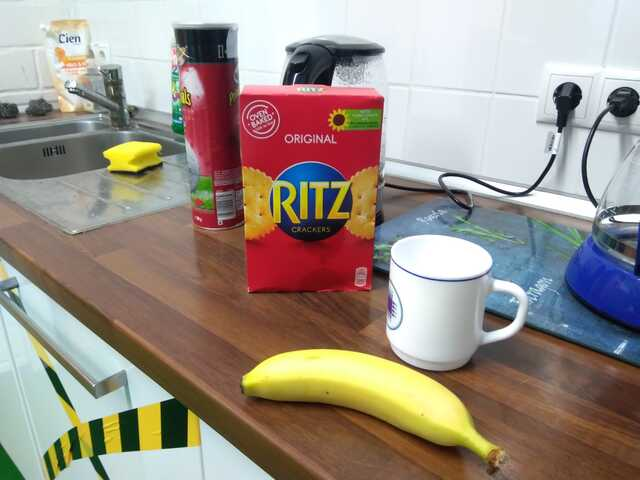001_chips_can: (170, 22, 246, 232)
003_cracker_box: (239, 84, 384, 296)
011_banana: (241, 347, 506, 467)
025_mug: (386, 234, 528, 374)
